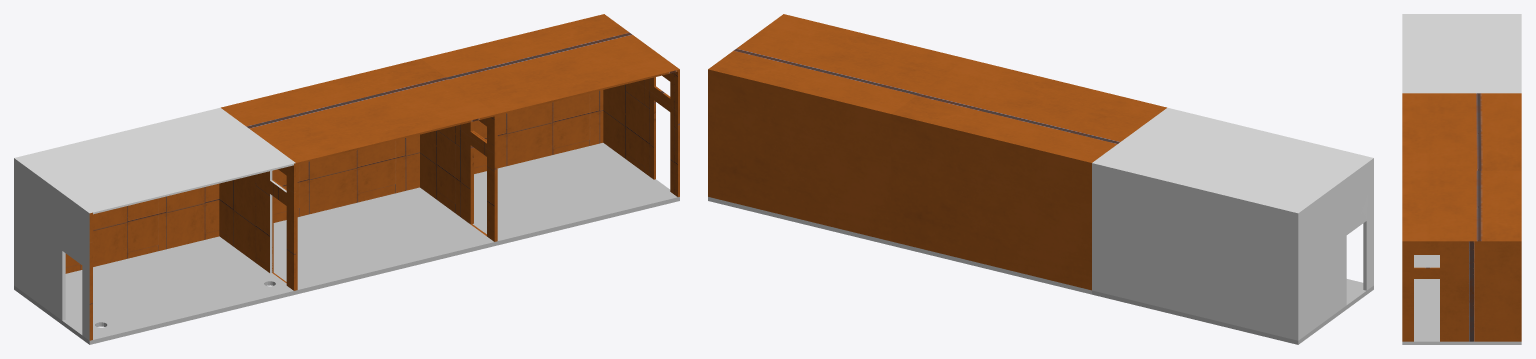
Rendered from sala 2 Uv certa.fbx.
The picture shows the model from 3 angles, left to right: view 1: azimuth 30°, elevation 25°; view 2: azimuth 150°, elevation 25°; view 3: azimuth 270°, elevation 25°; orthographic projection. The views are drawn at different scales.
Visible parts, largest first — view 1: polySurface1613, polySurface1615, polySurface1617, polySurface1612, polySurface1614, polySurface1616; view 2: polySurface1613, polySurface1615, polySurface1617, polySurface1612, polySurface1614, polySurface1616; view 3: polySurface1617, polySurface1613, polySurface1615, polySurface1616, polySurface1614.
Part boxes in pixels (x1=…): polySurface1613: x1=14, y1=107, x2=295, y2=340; polySurface1615: x1=221, y1=59, x2=496, y2=290; polySurface1617: x1=421, y1=14, x2=679, y2=241; polySurface1612: x1=14, y1=236, x2=295, y2=344; polySurface1614: x1=273, y1=187, x2=496, y2=294; polySurface1616: x1=473, y1=143, x2=679, y2=245; polySurface1613: x1=1092, y1=107, x2=1373, y2=340; polySurface1615: x1=891, y1=59, x2=1166, y2=290; polySurface1617: x1=708, y1=14, x2=966, y2=241; polySurface1612: x1=1092, y1=279, x2=1373, y2=344; polySurface1614: x1=891, y1=241, x2=1091, y2=294; polySurface1616: x1=708, y1=197, x2=891, y2=245; polySurface1617: x1=1402, y1=170, x2=1521, y2=341; polySurface1613: x1=1402, y1=14, x2=1521, y2=93; polySurface1615: x1=1402, y1=93, x2=1521, y2=170; polySurface1616: x1=1402, y1=279, x2=1521, y2=344; polySurface1614: x1=1414, y1=255, x2=1439, y2=267.
Size of the model in its own units: 62.77 by 13.37 by 13.94.
